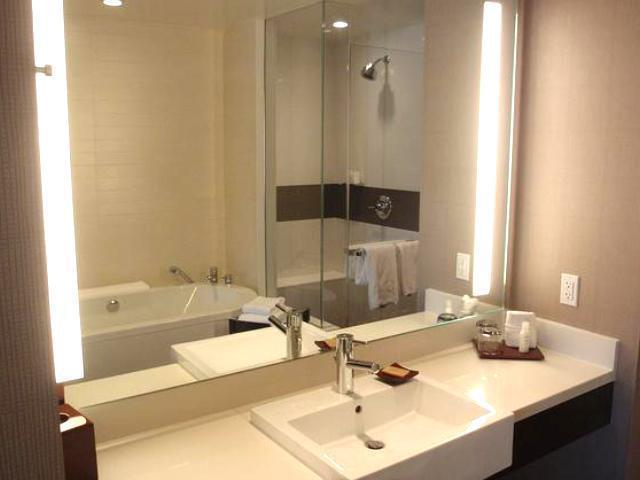Ducha: (259, 10, 421, 324)
Lavamanos: (252, 341, 512, 480)
